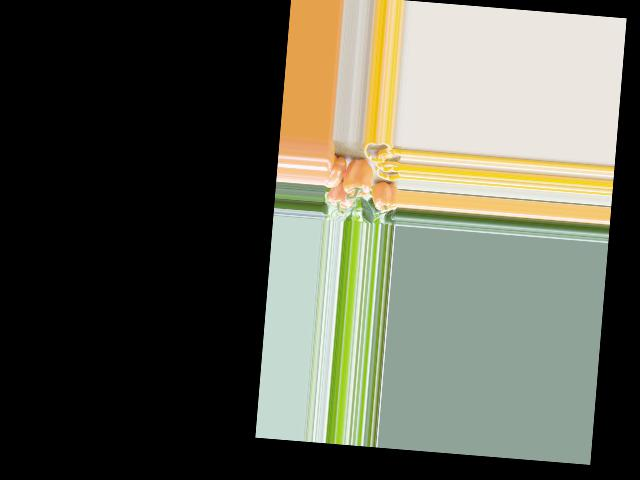bell_pepper: (324, 153, 347, 189)
